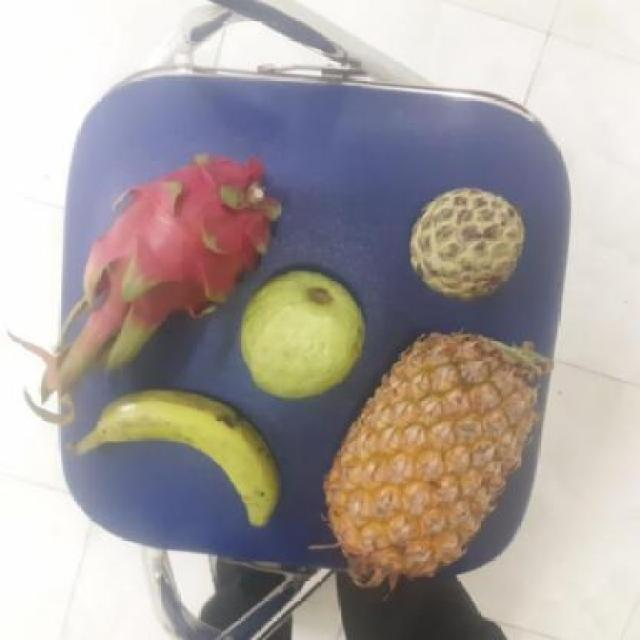dragon fruit: (87, 152, 275, 320)
guava: (235, 266, 362, 396)
pineapple: (321, 340, 539, 574)
sugar apple: (404, 186, 525, 299)
